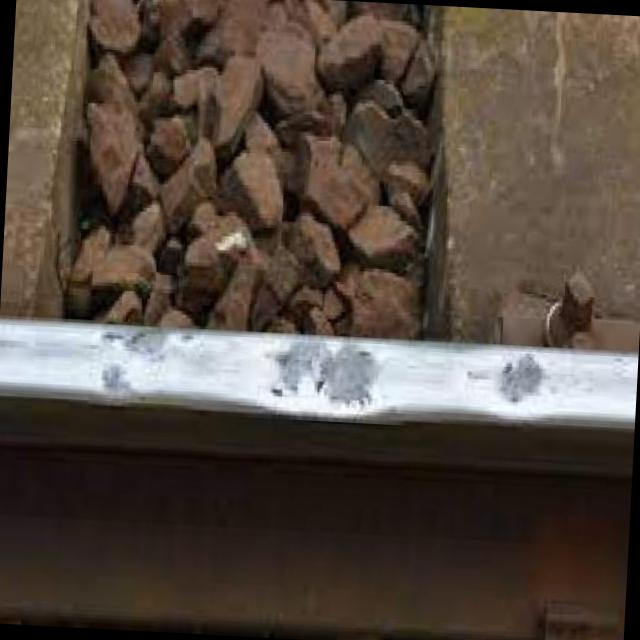defective: (0, 297, 616, 500)
